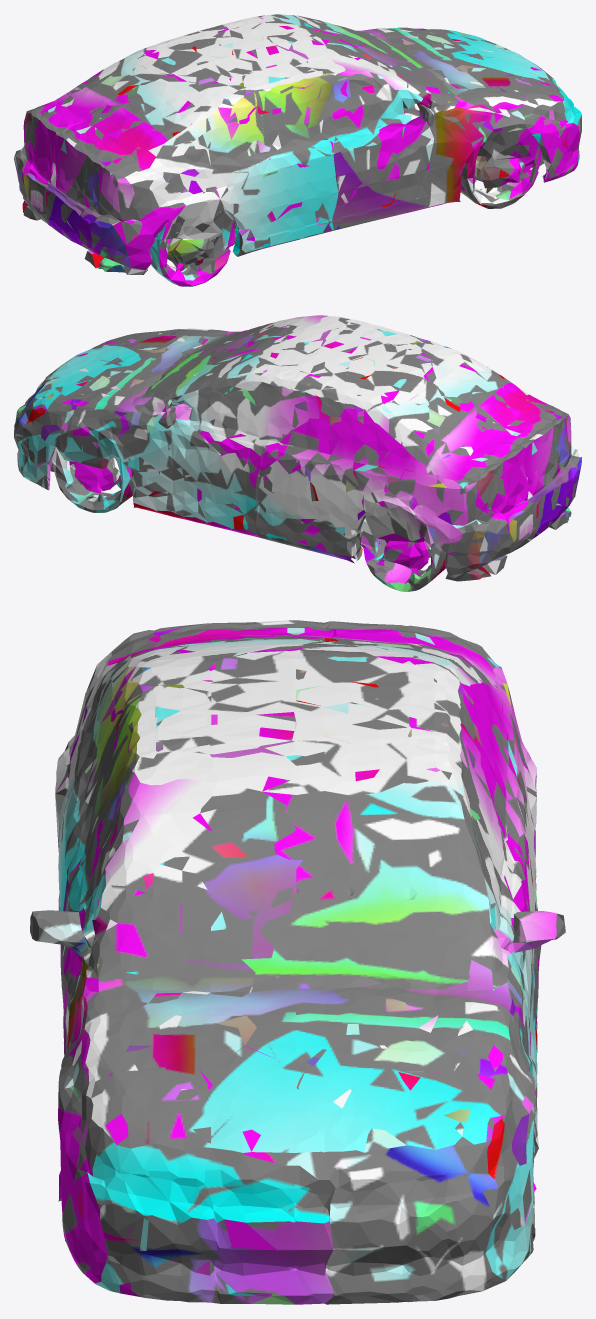
3 renders of one model, top to bottom at view 1: azimuth 30°, elevation 25°; view 2: azimuth 150°, elevation 25°; view 3: azimuth 270°, elevation 25°, orthographic. The views are drawn at different scales.
Bounding box in the file's own units: 0.896 × 0.2867 × 0.4166.
